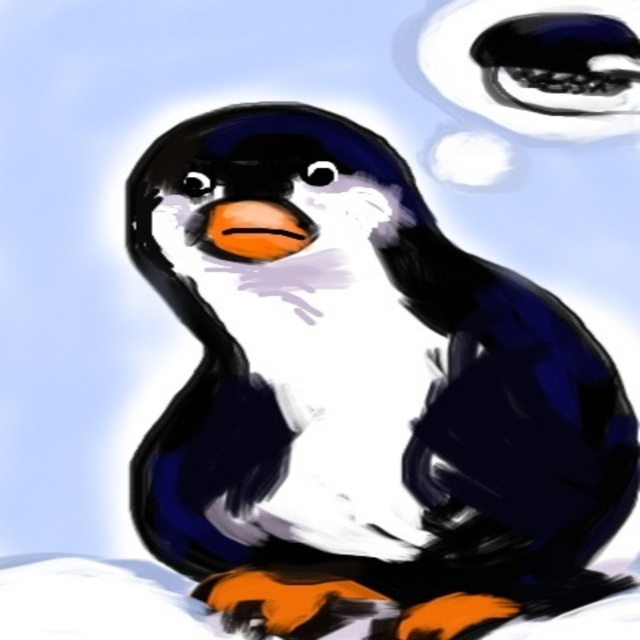Penguin: (112, 93, 620, 639)
